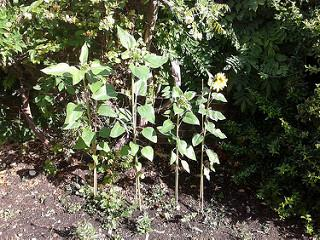sunflower: (215, 71, 228, 89)
